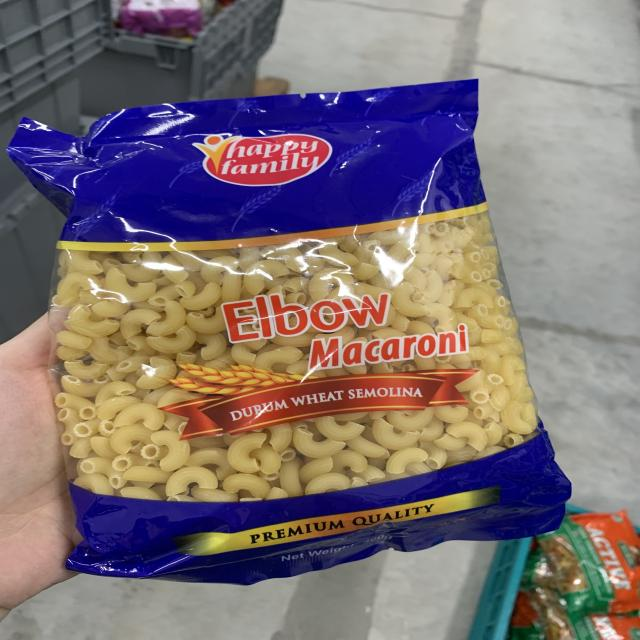object_name: (38, 125, 556, 547)
